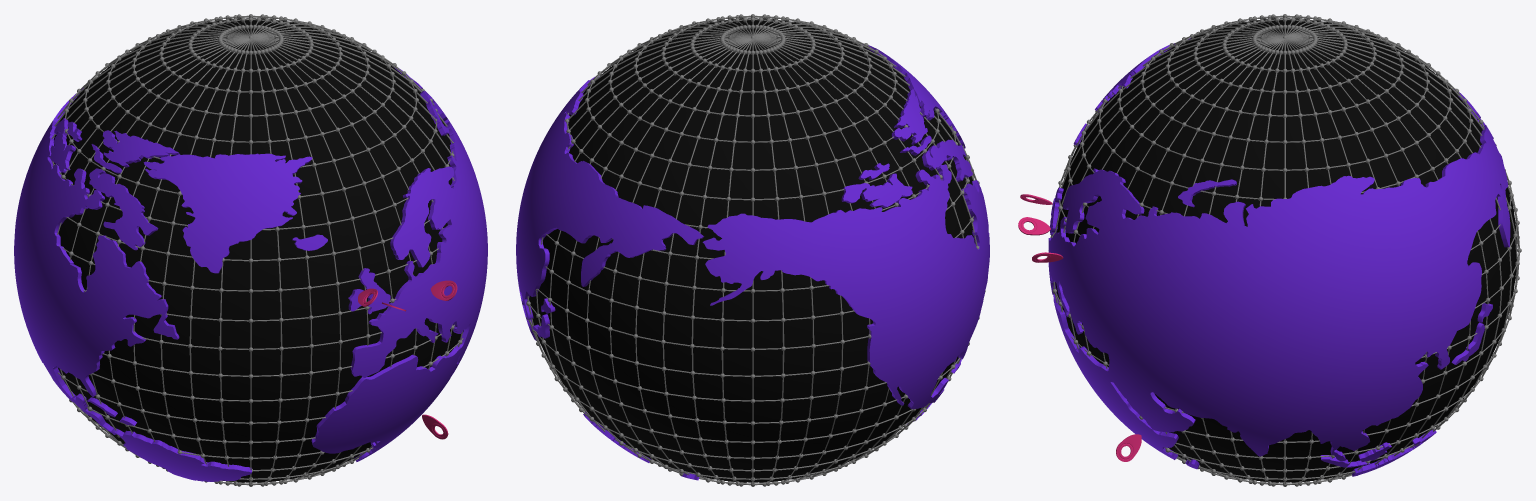
The model's file is globe.gltf.
The picture shows the model from 3 angles, left to right: view 1: azimuth 30°, elevation 25°; view 2: azimuth 150°, elevation 25°; view 3: azimuth 270°, elevation 25°; orthographic projection.
Visible parts, largest first — view 1: globe, map, wire; view 2: globe, map, wire; view 3: map, globe, wire.
Boxes of the visible parts, x1,y1,x2,y2 form: globe: [54, 18, 463, 482]; map: [14, 67, 487, 481]; wire: [50, 14, 463, 486]; globe: [529, 18, 975, 482]; map: [516, 45, 989, 480]; wire: [526, 14, 985, 486]; map: [1048, 38, 1510, 476]; globe: [1055, 18, 1517, 482]; wire: [1050, 14, 1521, 486].
Bounding box in the file's own units: 10.21 × 10.2 × 10.85.
